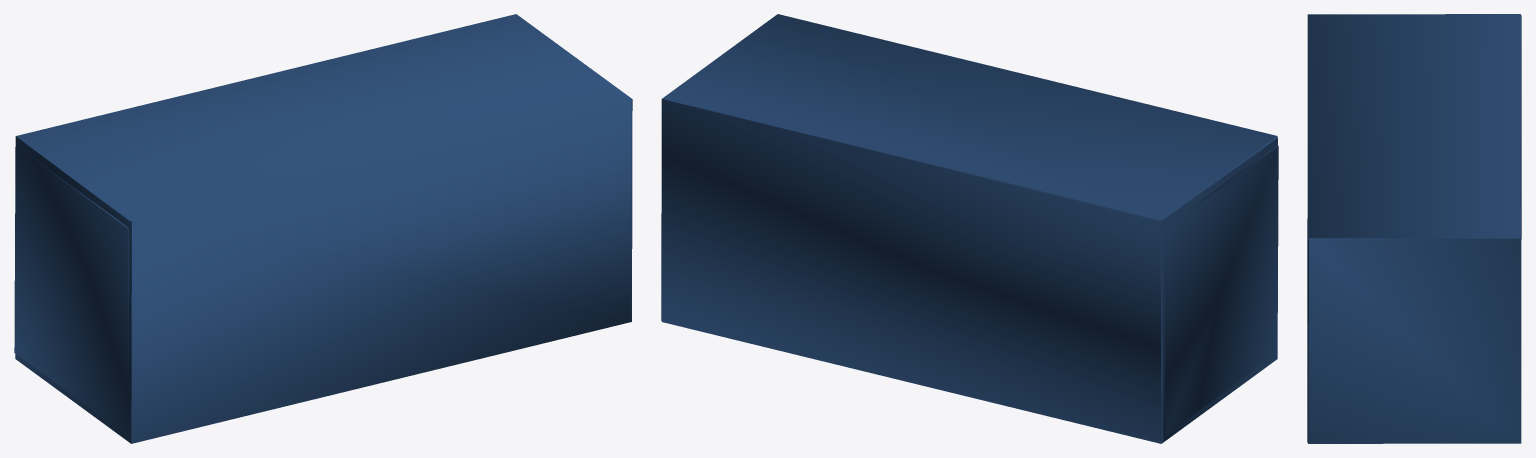
Rendered from container_blue_LOD1.glb.
3 renders of one model, left to right at view 1: azimuth 30°, elevation 25°; view 2: azimuth 150°, elevation 25°; view 3: azimuth 270°, elevation 25°, orthographic. The views are drawn at different scales.
Parts seen in each view (by area): view 1: Body_LOD1; view 2: Body_LOD1; view 3: Body_LOD1.
Boxes of the visible parts, <box> form: Body_LOD1: <box>14,14,632,443</box>; Body_LOD1: <box>661,14,1278,443</box>; Body_LOD1: <box>1307,14,1521,443</box>.
Size of the model in its own units: 6.08 by 2.58 by 2.44.
